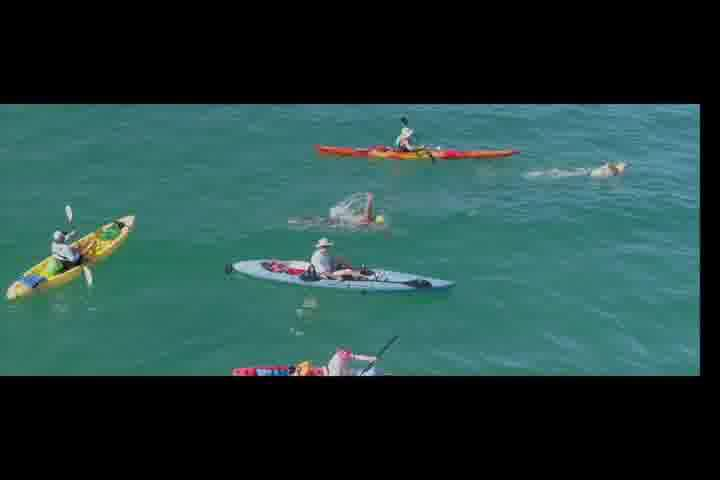swimmer: (324, 198, 395, 238)
